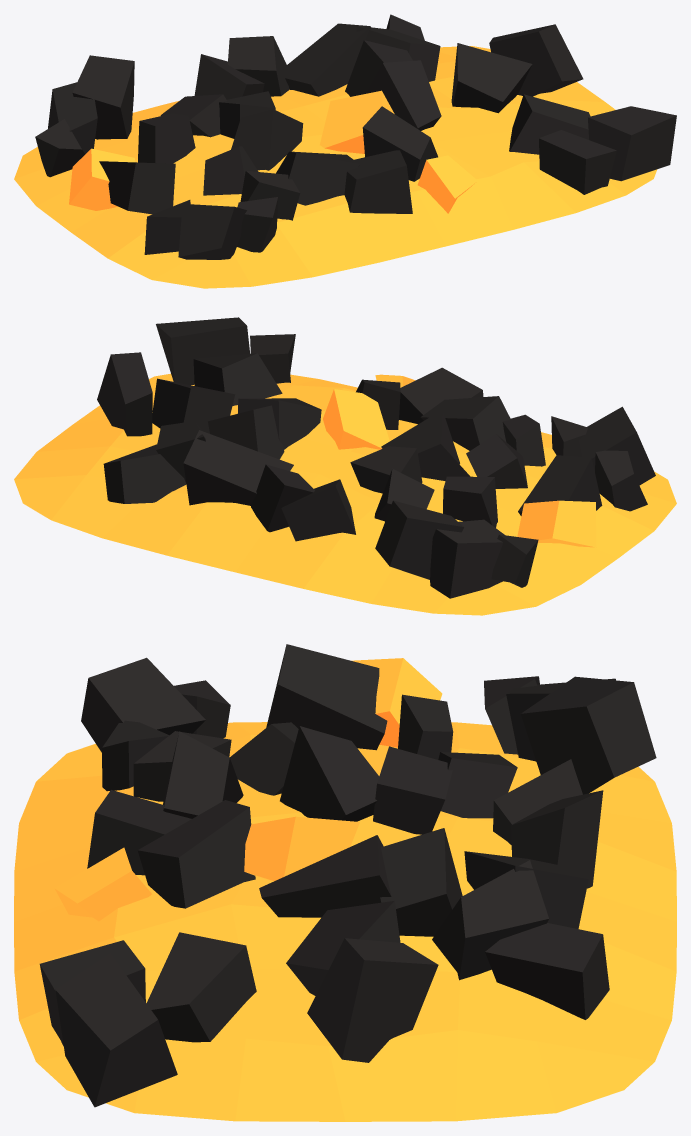
The model's file is carbon_brasa.glb.
3 views of the same model, one above another, from view 1: azimuth 30°, elevation 25°; view 2: azimuth 150°, elevation 25°; view 3: azimuth 270°, elevation 25° (orthographic). The views are drawn at different scales.
Parts seen in each view (by area): view 1: carbon_brasa_trozos, pieza_brasa; view 2: carbon_brasa_trozos, pieza_brasa; view 3: carbon_brasa_trozos, pieza_brasa.
Boxes of the visible parts, <box> form: carbon_brasa_trozos: <box>35,14,676,259</box>; pieza_brasa: <box>14,46,657,288</box>; carbon_brasa_trozos: <box>97,317,655,598</box>; pieza_brasa: <box>14,373,676,615</box>; carbon_brasa_trozos: <box>39,644,656,1107</box>; pieza_brasa: <box>14,658,676,1121</box>.
Bounding box in the file's own units: 0.5 × 0.08 × 0.35.
